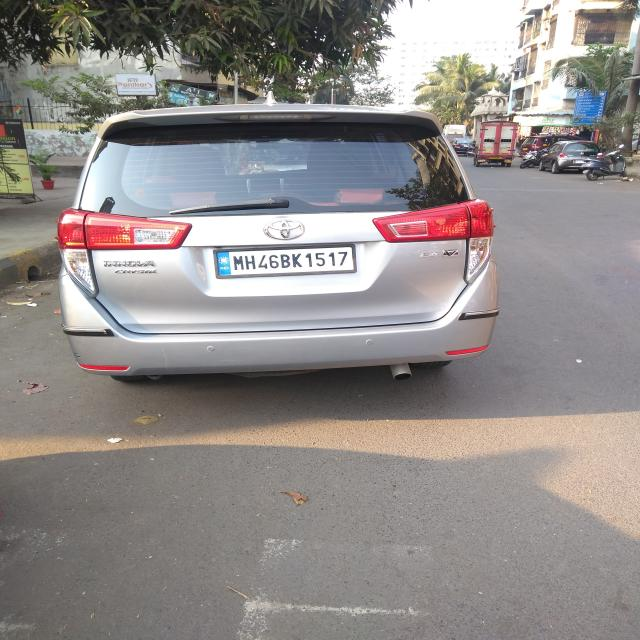Number-Plate: (221, 246, 352, 275)
